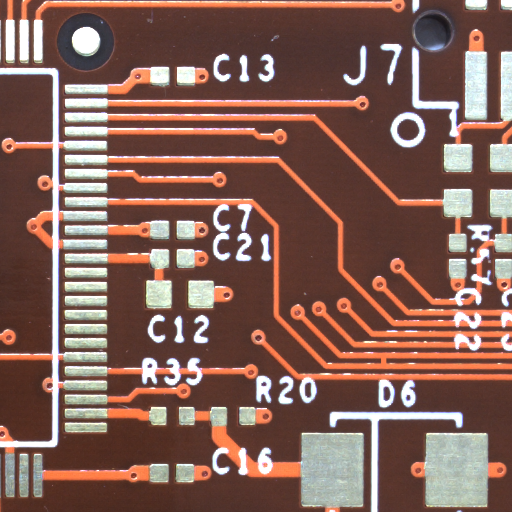Short: (383, 360, 393, 370)
